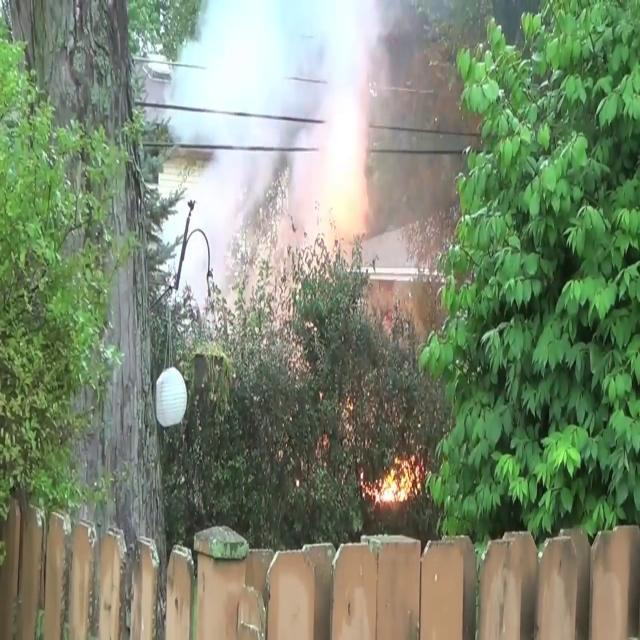Fire: (371, 455, 422, 509)
Smoke: (156, 0, 468, 283)
